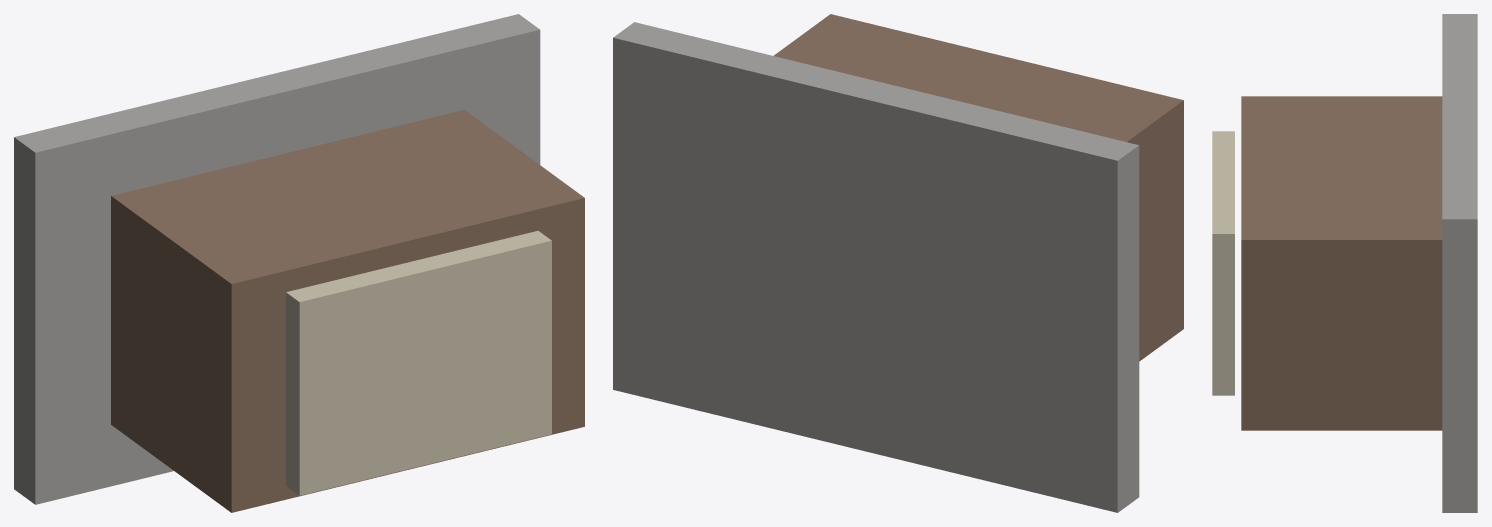
3 renders of one model, left to right at view 1: azimuth 30°, elevation 25°; view 2: azimuth 150°, elevation 25°; view 3: azimuth 270°, elevation 25°, orthographic. The views are drawn at different scales.
Parts seen in each view (by area): view 1: H11_part_1, H11_part_0, H11_part_2; view 2: H11_part_0, H11_part_1; view 3: H11_part_1, H11_part_0, H11_part_2.
Boxes of the visible parts, x1,y1,x2,y2 form: H11_part_1: [111, 109, 584, 512]; H11_part_0: [14, 14, 540, 504]; H11_part_2: [286, 230, 551, 495]; H11_part_0: [613, 22, 1139, 512]; H11_part_1: [773, 14, 1183, 361]; H11_part_1: [1241, 96, 1442, 430]; H11_part_0: [1442, 14, 1477, 512]; H11_part_2: [1212, 131, 1234, 395].
Bounding box in the file's own units: 1.5 × 1 × 0.82.
